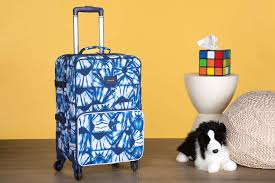suitcase: (46, 7, 149, 178)
